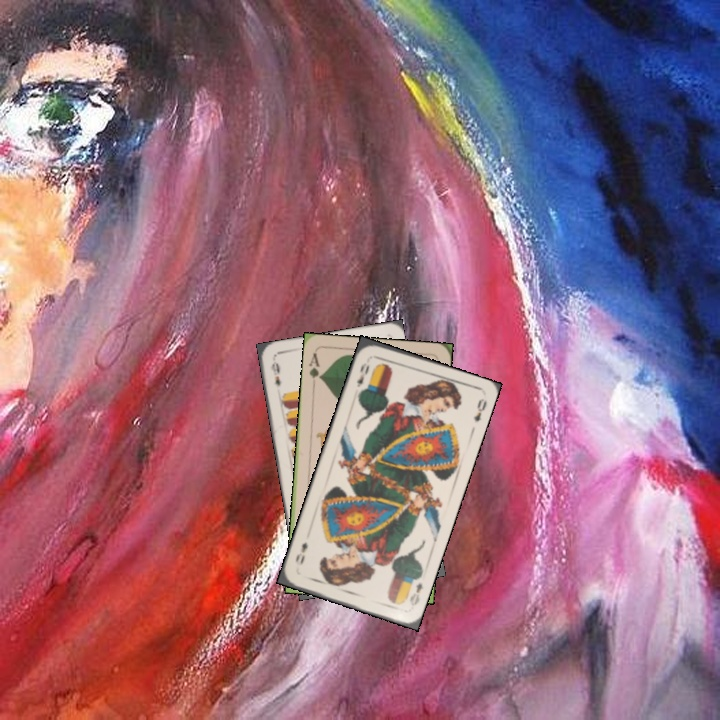E9: (267, 358, 284, 388)
EO: (352, 359, 372, 390), (405, 579, 426, 608)
GA: (305, 348, 324, 389)
